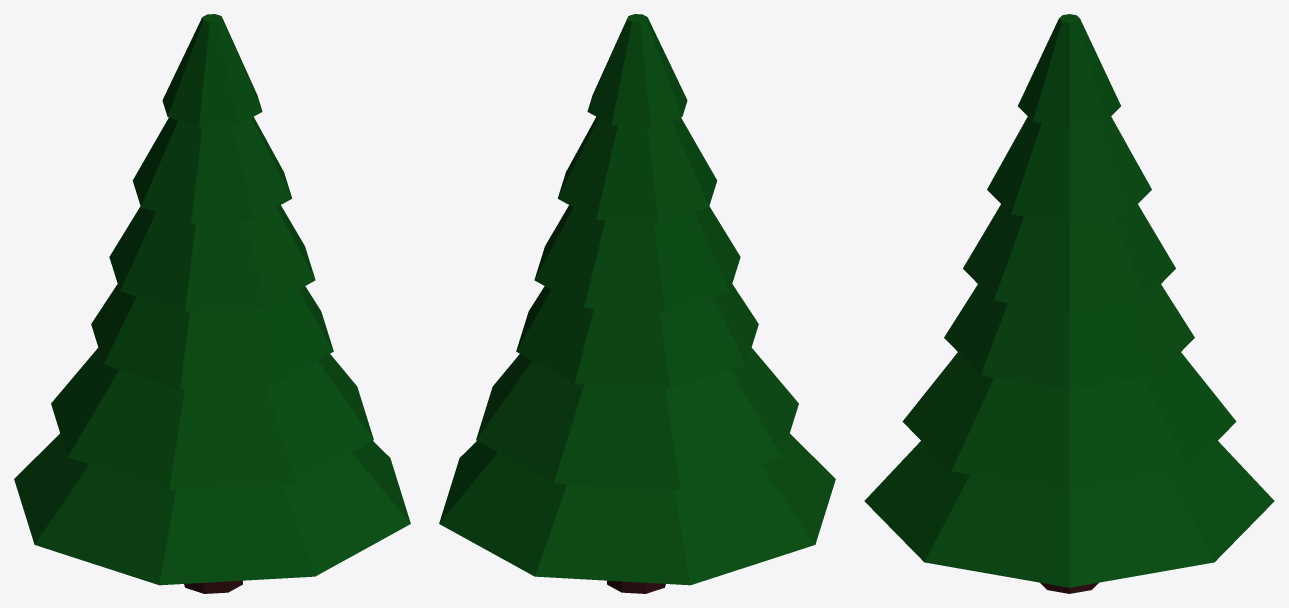
Rendered from low_poly_tree1.fbx.
The picture shows the model from 3 angles, left to right: view 1: azimuth 30°, elevation 25°; view 2: azimuth 150°, elevation 25°; view 3: azimuth 270°, elevation 25°; orthographic projection.
Parts seen in each view (by area): view 1: tree; view 2: tree; view 3: tree.
Part boxes in pixels (x1,y1,x2,y2): tree: (14,14,410,593); tree: (439,14,835,593); tree: (864,14,1274,593).
Size of the model in its own units: 369 by 557 by 369.
